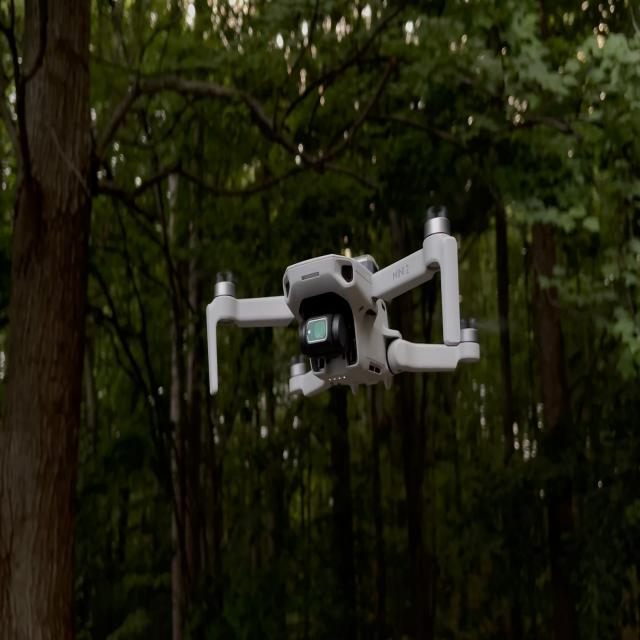Drone: (201, 218, 478, 398)
